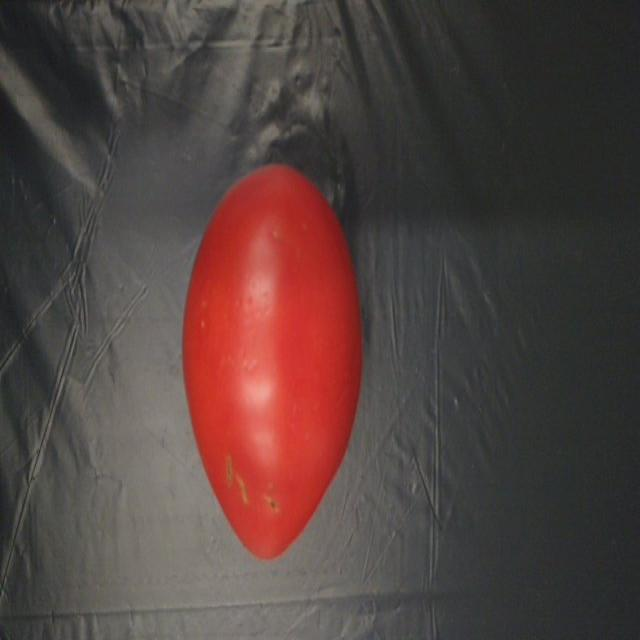kirmizi: (184, 156, 369, 575)
